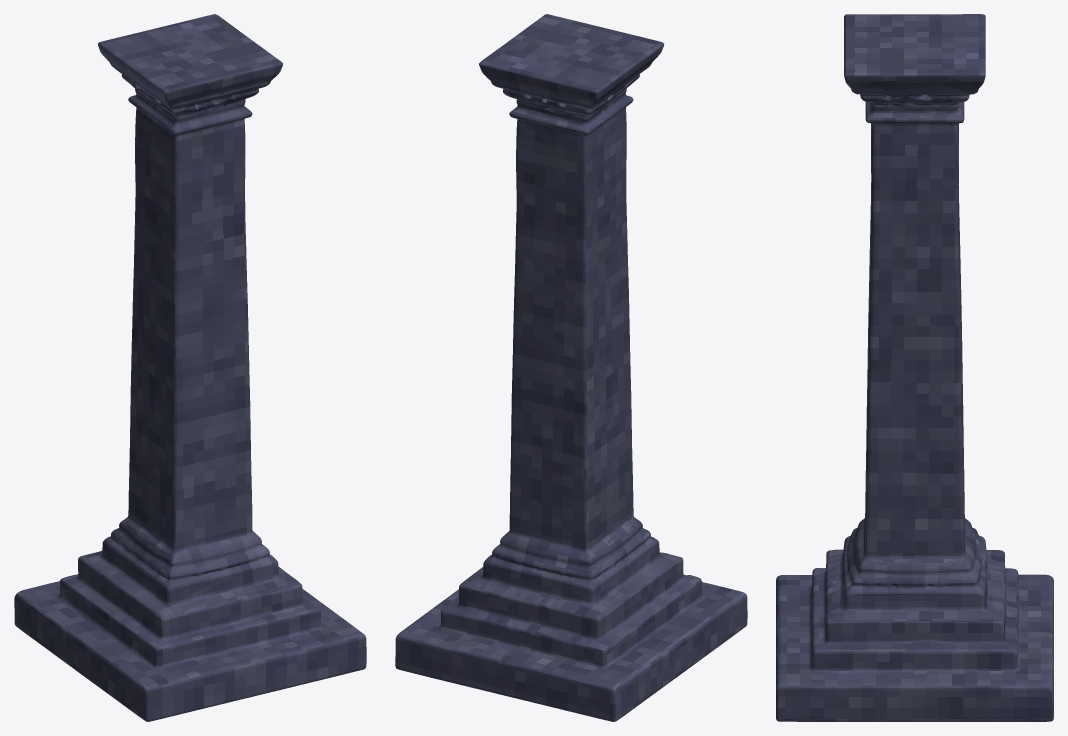
Rendered from solitude-pillar-8.collider.glb.
3 views of the same model, side by side, from view 1: azimuth 30°, elevation 25°; view 2: azimuth 150°, elevation 25°; view 3: azimuth 270°, elevation 25° (orthographic). The views are drawn at different scales.
Visible parts, largest first — view 1: temp_mesh.ply; view 2: temp_mesh.ply; view 3: temp_mesh.ply.
Boxes of the visible parts, <box> form: temp_mesh.ply: <box>14,14,366,721</box>; temp_mesh.ply: <box>395,14,747,721</box>; temp_mesh.ply: <box>776,14,1053,721</box>.
Bounding box in the file's own units: 0.767 × 1.97 × 0.7981.
1 material, 1 textured.
